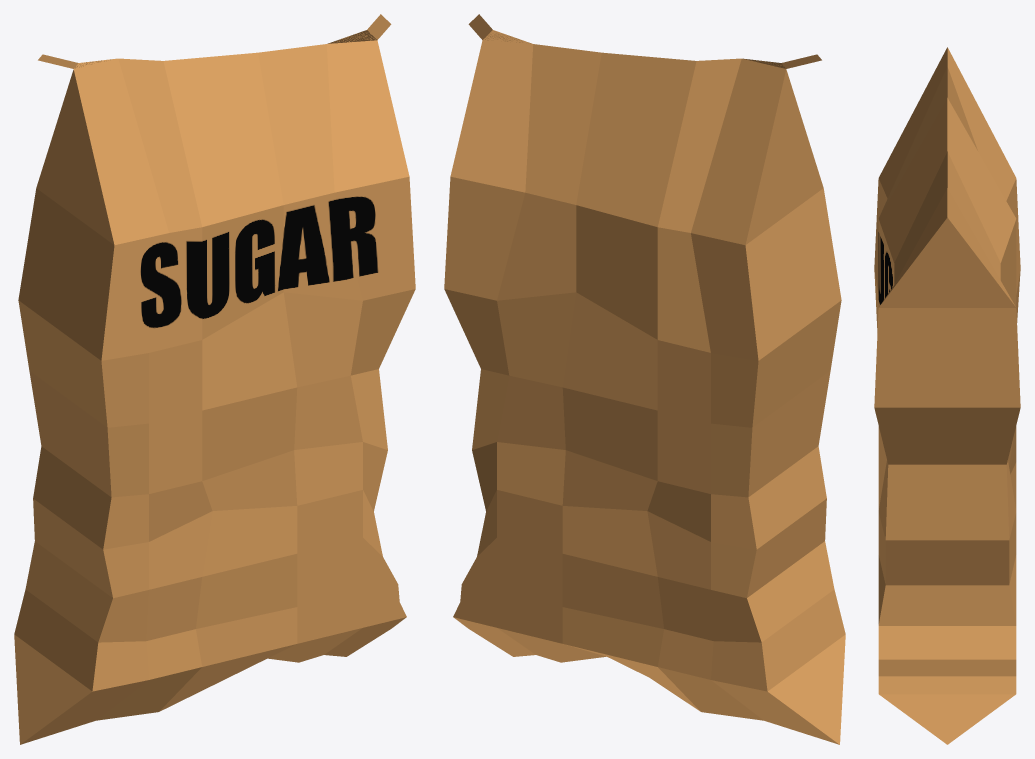
File: sackSugar.glb
3 renders of one model, left to right at view 1: azimuth 30°, elevation 25°; view 2: azimuth 150°, elevation 25°; view 3: azimuth 270°, elevation 25°, orthographic. The views are drawn at different scales.
Visible parts, largest first — view 1: Cube; view 2: Cube; view 3: Cube.
Part boxes in pixels (x1,y1,x2,y2): Cube: [14, 14, 415, 744]; Cube: [444, 14, 845, 744]; Cube: [874, 47, 1020, 744].
Bounding box in the file's own units: 2.28 × 4.03 × 0.885.
Materials: 1 (1 with a texture image).
